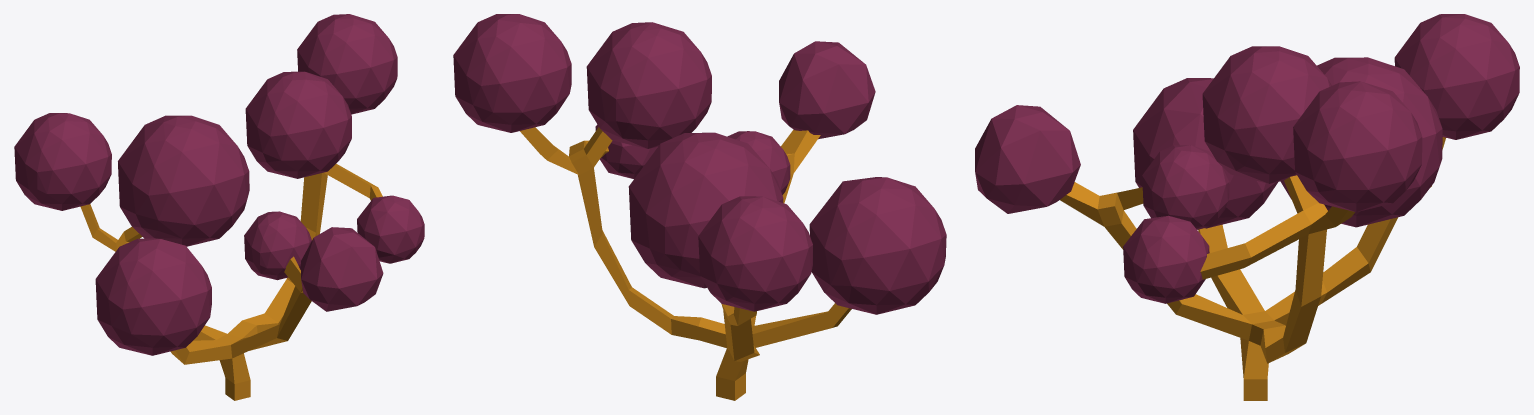
File: UniqueTree.fbx
The picture shows the model from 3 angles, left to right: view 1: azimuth 30°, elevation 25°; view 2: azimuth 150°, elevation 25°; view 3: azimuth 270°, elevation 25°; orthographic projection. The views are drawn at different scales.
Visible parts, largest first — view 1: Sphere_2, Sphere, Sphere_4, Cube, Sphere_1, Sphere_3, Sphere_6, Sphere_5, Sphere_7; view 2: Sphere, Sphere_2, Sphere_4, Cube, Sphere_3, Sphere_1, Sphere_6, Sphere_7, Sphere_5; view 3: Cube, Sphere_3, Sphere_4, Sphere_1, Sphere_6, Sphere, Sphere_5, Sphere_2, Sphere_7.
Boxes of the visible parts, box(x1,y1,x2,y2) form: Sphere_2: box(118, 115, 249, 246); Sphere: box(95, 238, 211, 355); Sphere_4: box(245, 71, 351, 178); Cube: box(80, 163, 382, 400); Sphere_1: box(14, 113, 111, 210); Sphere_3: box(297, 14, 397, 114); Sphere_6: box(301, 227, 383, 311); Sphere_5: box(357, 195, 424, 263); Sphere_7: box(244, 211, 311, 280); Sphere: box(809, 177, 946, 314); Sphere_2: box(628, 132, 783, 288); Sphere_4: box(586, 22, 711, 148); Cube: box(520, 127, 851, 400); Sphere_3: box(453, 14, 571, 132); Sphere_1: box(698, 196, 812, 311); Sphere_6: box(779, 41, 875, 139); Sphere_7: box(727, 131, 790, 194); Sphere_5: box(595, 124, 657, 178); Cube: box(1060, 137, 1445, 400); Sphere_3: box(1293, 81, 1422, 212); Sphere_4: box(1202, 46, 1331, 183); Sphere_1: box(1394, 14, 1519, 139); Sphere_6: box(975, 105, 1080, 213); Sphere: box(1133, 78, 1277, 228); Sphere_5: box(1123, 215, 1209, 303); Sphere_2: box(1280, 57, 1442, 227); Sphere_7: box(1142, 145, 1229, 229).
Size of the model in its own units: 4272 by 3702 by 4552.
